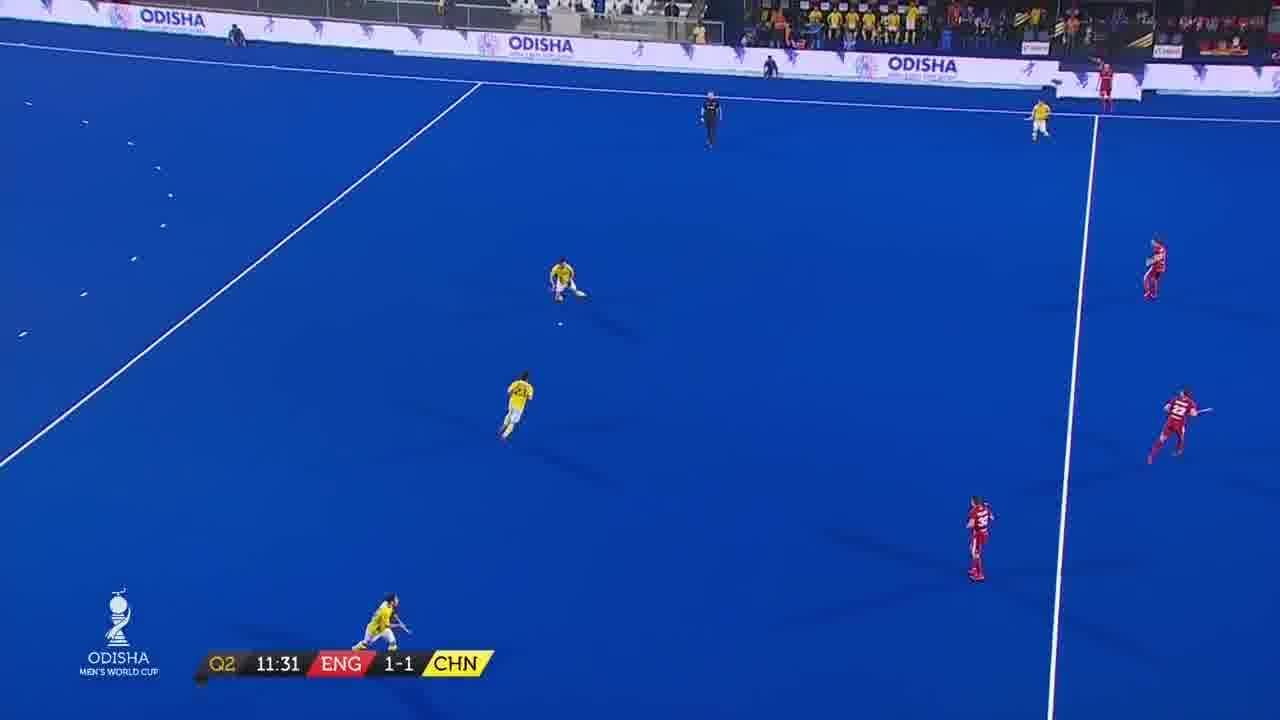ball: (555, 317, 571, 332)
